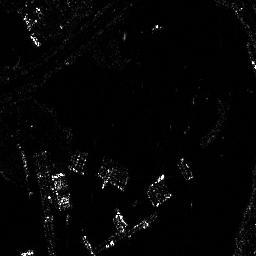ship: (174, 157, 195, 181)
